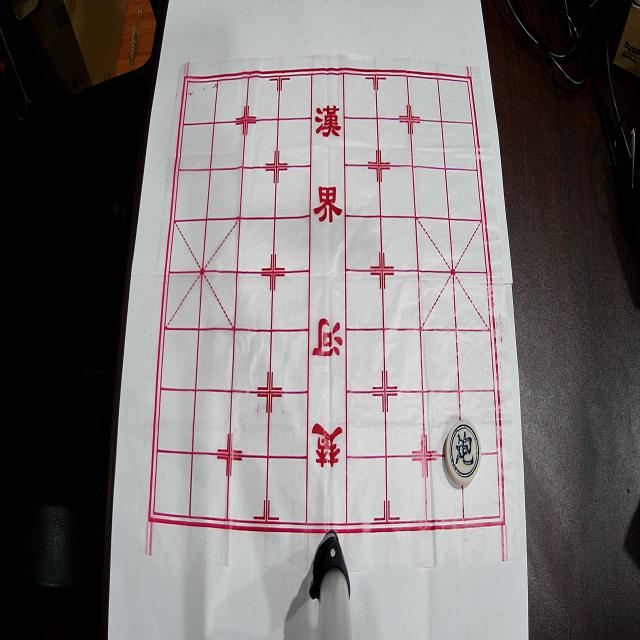black-cannon: (445, 420, 481, 486)
